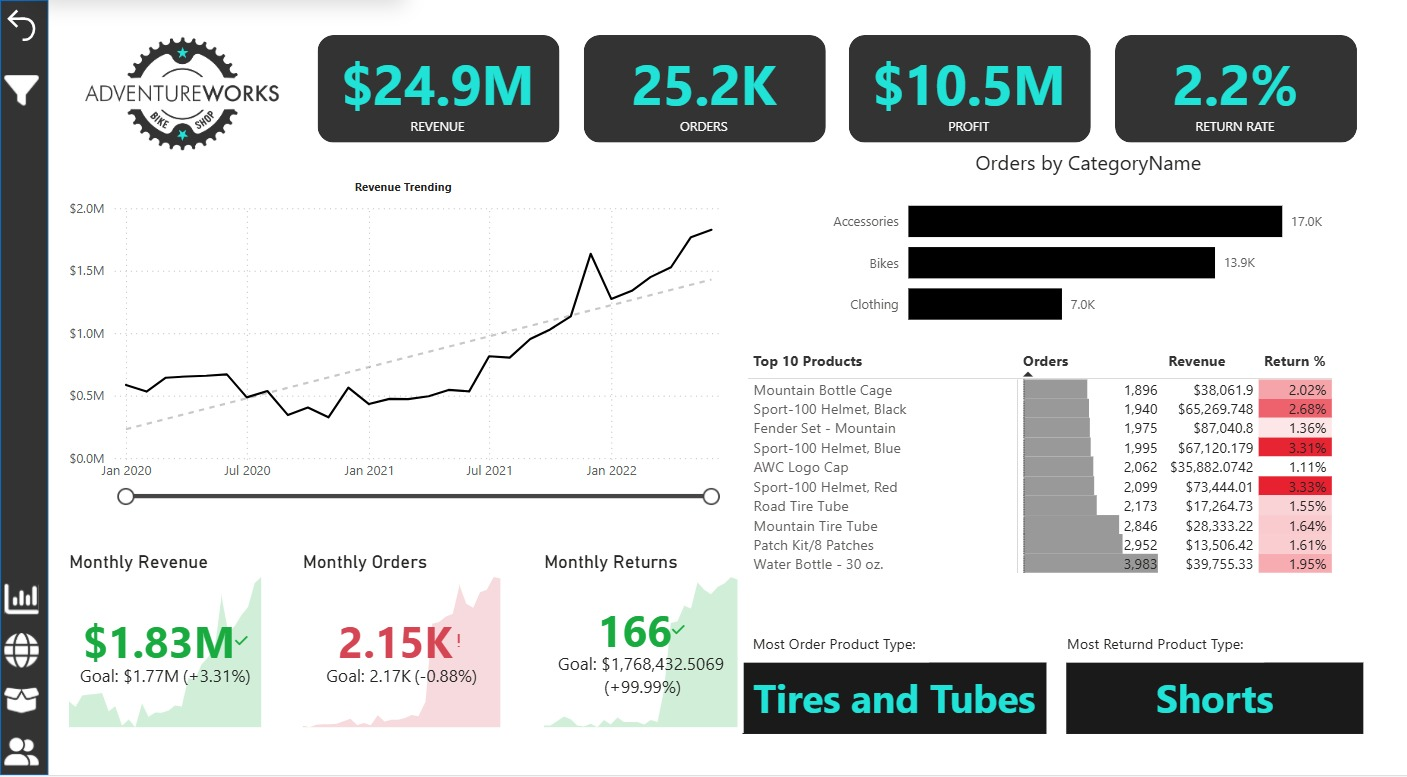

What the dashboard file says about the page in this screenshot:
{"tool":"powerbi","page":{"name":"Exec Dashboard","canvas":[1280,720],"ordinal":0},"visuals":[{"type":"shape","box":[0,0,277.5,720],"z":0,"group":"g5"},{"type":"card","fields":{"Values":["Measure Table.Totall Revenue"]},"box":[286.2,8.8,242,150],"z":0,"group":"g2"},{"type":"group","id":"g1","title":"KPI Background","box":[295.3,32,966,100],"z":0,"group":"g3"},{"type":"shape","box":[295.3,32,225,100],"z":0,"group":"g1"},{"type":"actionButton","box":[0,536,45,40],"z":0,"group":"g4"},{"type":"shape","title":"Left Nov Background","box":[0,0,45,720.2],"z":1000},{"type":"actionButton","box":[241.2,0,42.5,40],"z":1000,"group":"g5"},{"type":"group","id":"g2","title":"KPI Values","box":[286.2,8.8,983,150],"z":1000,"group":"g3"},{"type":"card","fields":{"Values":["Measure Table.Total Profit"]},"box":[780.2,8.8,242,150],"z":1000,"group":"g2"},{"type":"shape","box":[542.3,32,225,100],"z":1000,"group":"g1"},{"type":"actionButton","box":[0,583.1,45,40],"z":1000,"group":"g4"},{"type":"group","id":"g3","title":"KPIs","box":[286.2,8.8,982.5,150],"z":2000},{"type":"card","fields":{"Values":["Measure Table.Total Orders"]},"box":[533.2,8.8,242,150],"z":2000,"group":"g2"},{"type":"shape","box":[789.3,32,225,100],"z":2000,"group":"g1"},{"type":"slicer","fields":{"Values":["Calendar Lookup.Year"]},"box":[7.5,60,262.5,300],"z":2000,"group":"g5"},{"type":"actionButton","box":[0,630.2,45,40],"z":2000,"group":"g4"},{"type":"card","fields":{"Values":["Measure Table.Return Rate"]},"box":[1027.2,8.8,242,150],"z":3000,"group":"g2"},{"type":"shape","box":[1036.3,32,225,100],"z":3000,"group":"g1"},{"type":"slicer","fields":{"Values":["Territory Lookup.Continent"]},"box":[7.5,377.5,262.5,300],"z":3000,"group":"g5"},{"type":"card","fields":{"Values":["Min(Product Subcategories Lookup.SubcategoryName)"]},"box":[689.7,615.1,282.5,66],"z":3000},{"type":"actionButton","box":[0,677.3,45,40],"z":3000,"group":"g4"},{"type":"lineChart","title":"Revenue Trending","fields":{"Category":["Calendar Lookup.Year","Calendar Lookup.Start of Quarter","Calendar Lookup.Start of Month"],"Y":["Measure Table.Totall Revenue"]},"box":[58.7,166.3,631,305.7],"z":4000},{"type":"kpi","title":"Monthly Revenue","fields":{"Goal":["Measure Table.Previous Month Revenue"],"Indicator":["Measure Table.Totall Revenue"],"TrendLine":["Calendar Lookup.Start of Month"]},"box":[58.8,512.5,188.8,168.8],"z":5000},{"type":"kpi","title":"Monthly Orders","fields":{"Goal":["Measure Table.Previos Month Orders"],"Indicator":["Measure Table.Total Orders"],"TrendLine":["Calendar Lookup.Start of Month"]},"box":[276.9,512.5,193.8,168.8],"z":6000},{"type":"kpi","title":"Monthly Returns","fields":{"Goal":["Measure Table.Previous Month Revenue"],"Indicator":["Measure Table.Total Returns"],"TrendLine":["Calendar Lookup.Start of Month"]},"box":[500,512.5,190,168.8],"z":7000},{"type":"barChart","title":"Orders by CategoryName","fields":{"Category":["Product Categories Lookup.CategoryName"],"Y":["Measure Table.Total Orders"]},"box":[764.3,138.2,494,181],"z":8000},{"type":"pivotTable","fields":{"Rows":["Product Lookup.ProductName"],"Values":["Measure Table.Total Orders","Measure Table.Totall Revenue","Measure Table.Return Rate"]},"box":[690,320,588.2,247],"z":9000},{"type":"textbox","box":[687.5,583.8,175,31.2],"z":10000},{"type":"card","fields":{"Values":["Min(Product Subcategories Lookup.SubcategoryName)"]},"box":[990.5,615.1,276.4,66],"z":11000},{"type":"textbox","box":[972.5,583.8,202.5,31.2],"z":12000},{"type":"actionButton","box":[0,3.8,45,40],"z":13000},{"type":"group","id":"g4","title":"Group 1","box":[0,536,45,181.3],"z":14000},{"type":"actionButton","box":[0,63.8,45,40],"z":15000},{"type":"image","box":[59.3,0,221,173.8],"z":15500},{"type":"group","id":"g5","title":"filter year and continent","box":[0,0,283.8,720],"z":16000}]}

Visuals, with their boxes on the page's 1280x720 design canvas (x1, y1, x2, y2). These are canvas units, not pixel positions in the 1407x777 screenshot, which may show the page scaled, cropped or inside an application window:
shape: 0:0:278:720
card - Measure Table.Totall Revenue: 286:9:528:159
"KPI Background" group: 295:32:1261:132
shape: 295:32:520:132
actionButton: 0:536:45:576
"Left Nov Background" shape: 0:0:45:720
actionButton: 241:0:284:40
"KPI Values" group: 286:9:1269:159
card - Measure Table.Total Profit: 780:9:1022:159
shape: 542:32:767:132
actionButton: 0:583:45:623
"KPIs" group: 286:9:1269:159
card - Measure Table.Total Orders: 533:9:775:159
shape: 789:32:1014:132
slicer - Calendar Lookup.Year: 8:60:270:360
actionButton: 0:630:45:670
card - Measure Table.Return Rate: 1027:9:1269:159
shape: 1036:32:1261:132
slicer - Territory Lookup.Continent: 8:378:270:678
card - Min(Product Subcategories Lookup.SubcategoryName): 690:615:972:681
actionButton: 0:677:45:717
"Revenue Trending" lineChart: 59:166:690:472
"Monthly Revenue" kpi: 59:512:248:681
"Monthly Orders" kpi: 277:512:471:681
"Monthly Returns" kpi: 500:512:690:681
"Orders by CategoryName" barChart: 764:138:1258:319
pivotTable - Product Lookup.ProductName x Measure Table.Total Orders: 690:320:1278:567
textbox: 688:584:862:615
card - Min(Product Subcategories Lookup.SubcategoryName): 990:615:1267:681
textbox: 972:584:1175:615
actionButton: 0:4:45:44
"Group 1" group: 0:536:45:717
actionButton: 0:64:45:104
image: 59:0:280:174
"filter year and continent" group: 0:0:284:720
